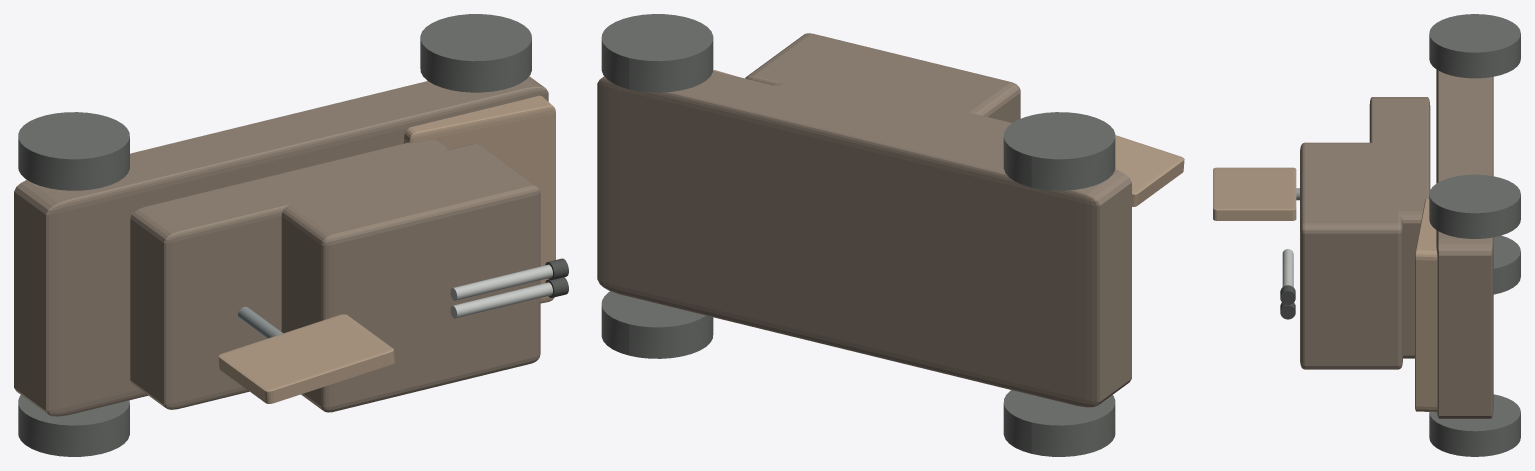
File: d-u11-dominion-recon-vehicle-lod1.glb
3 views of the same model, side by side, from view 1: azimuth 30°, elevation 25°; view 2: azimuth 150°, elevation 25°; view 3: azimuth 270°, elevation 25° (orthographic). The views are drawn at different scales.
Visible parts, largest first — view 1: recon_cabin, chassis_lower, upper_hull, recon_sensor_array, chassis_nose, chassis_wheel_1_0, chassis_wheel_1_1, chassis_wheel_-1_0, recon_gun_barrel_0, recon_gun_barrel_1, recon_sensor_mast; view 2: chassis_lower, recon_cabin, chassis_wheel_1_0, chassis_wheel_1_1, chassis_wheel_-1_0, chassis_wheel_-1_1, upper_hull, recon_sensor_array; view 3: recon_cabin, chassis_lower, upper_hull, chassis_wheel_1_0, chassis_wheel_1_1, recon_sensor_array, chassis_nose, chassis_wheel_-1_1, chassis_wheel_-1_0, recon_gun_barrel_1.
Part boxes in pixels (x1,y1,x2,y2): recon_cabin: (274, 144, 540, 412); chassis_lower: (14, 76, 548, 416); upper_hull: (130, 139, 450, 409); recon_sensor_array: (218, 314, 394, 403); chassis_nose: (404, 95, 555, 303); chassis_wheel_1_0: (18, 112, 129, 190); chassis_wheel_1_1: (420, 14, 531, 92); chassis_wheel_-1_0: (18, 395, 129, 456); recon_gun_barrel_0: (450, 282, 552, 318); recon_gun_barrel_1: (450, 264, 552, 300); recon_sensor_mast: (238, 306, 283, 338); chassis_lower: (597, 70, 1131, 407); recon_cabin: (745, 33, 1020, 122); chassis_wheel_1_0: (1003, 112, 1115, 190); chassis_wheel_1_1: (601, 14, 713, 92); chassis_wheel_-1_0: (1003, 390, 1115, 456); chassis_wheel_-1_1: (601, 291, 713, 358); upper_hull: (771, 71, 1011, 141); recon_sensor_array: (1115, 135, 1184, 206); recon_cabin: (1300, 142, 1402, 369); chassis_lower: (1436, 69, 1493, 418); upper_hull: (1369, 97, 1430, 358); chassis_wheel_1_0: (1429, 14, 1520, 78); chassis_wheel_1_1: (1429, 174, 1520, 238); recon_sensor_array: (1213, 167, 1296, 220); chassis_nose: (1415, 199, 1437, 412); chassis_wheel_-1_1: (1429, 394, 1520, 456); chassis_wheel_-1_0: (1493, 235, 1520, 294); recon_gun_barrel_1: (1282, 249, 1293, 286).
Size of what is drawn, in the model's own units: 4.75 by 2.69 by 3.08.
